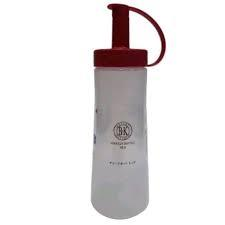BIODEGRADABLE: (79, 1, 178, 212)
